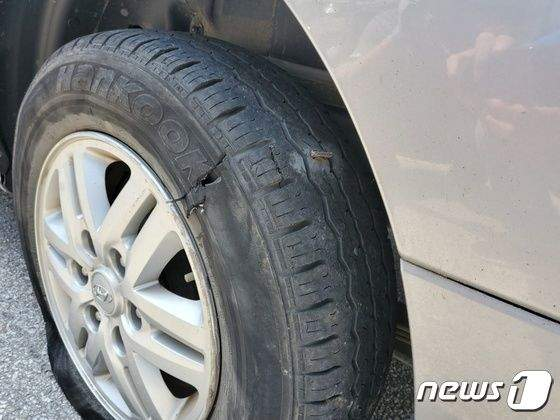bad_condition: (83, 21, 395, 412)
